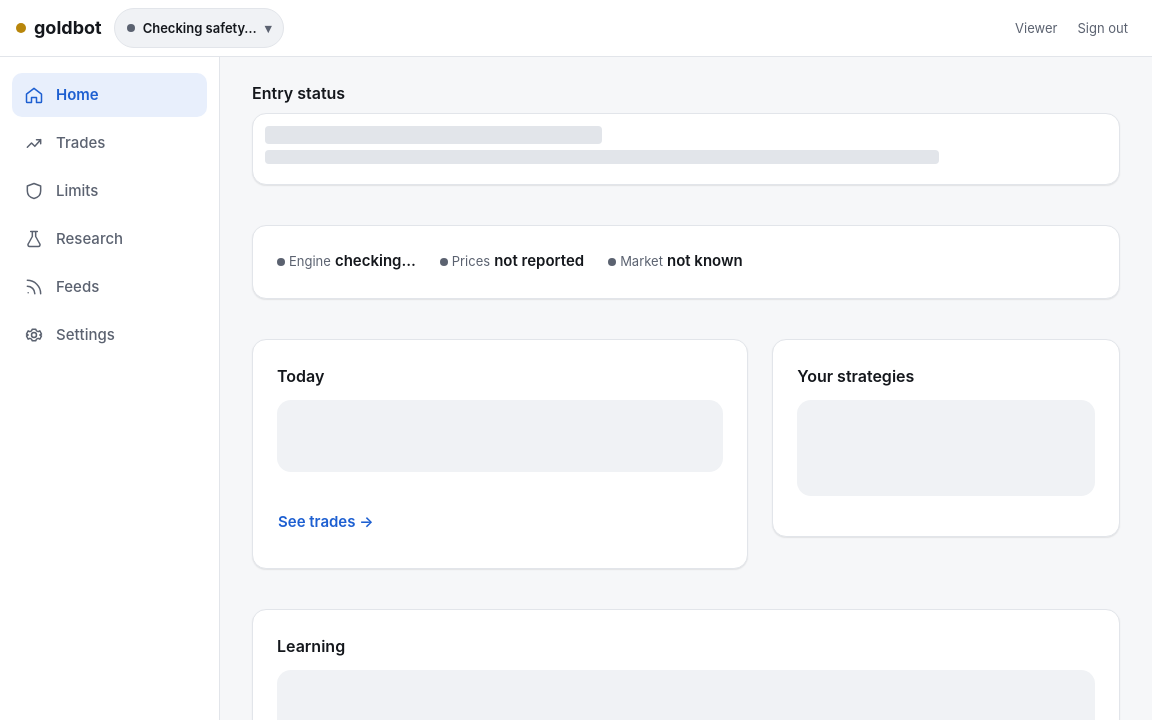
it: App header › has six destinations (the Chart tab is off for now); the phone bar holds Home, Trades, Limits, Research and More
The width and height of the screenshot is (1152, 720).
Click the button "Limits". click: (110, 191)
box: x1=12 y1=169 x2=207 y2=213
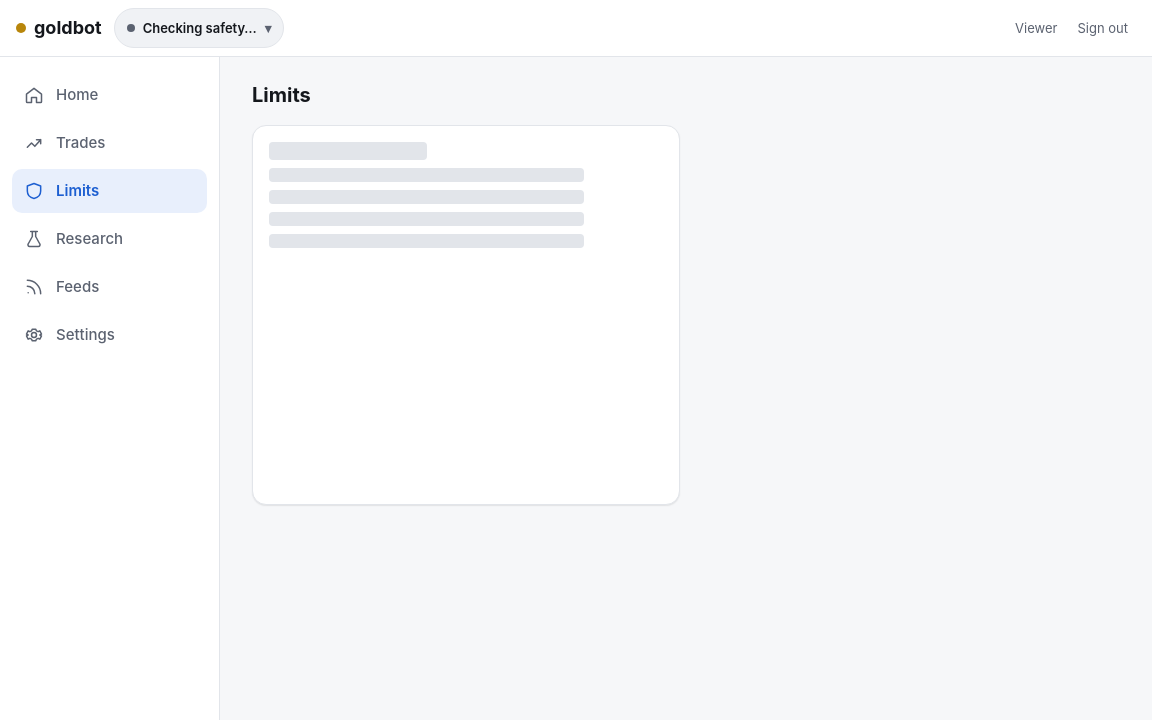
Check: the element named "Loading limits" is shown, box x1=252 y1=125 x2=680 y2=505
